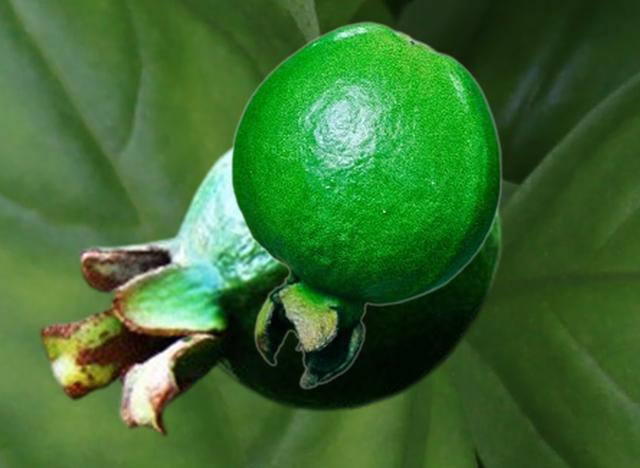guava: (38, 143, 503, 437), (229, 21, 502, 388)
